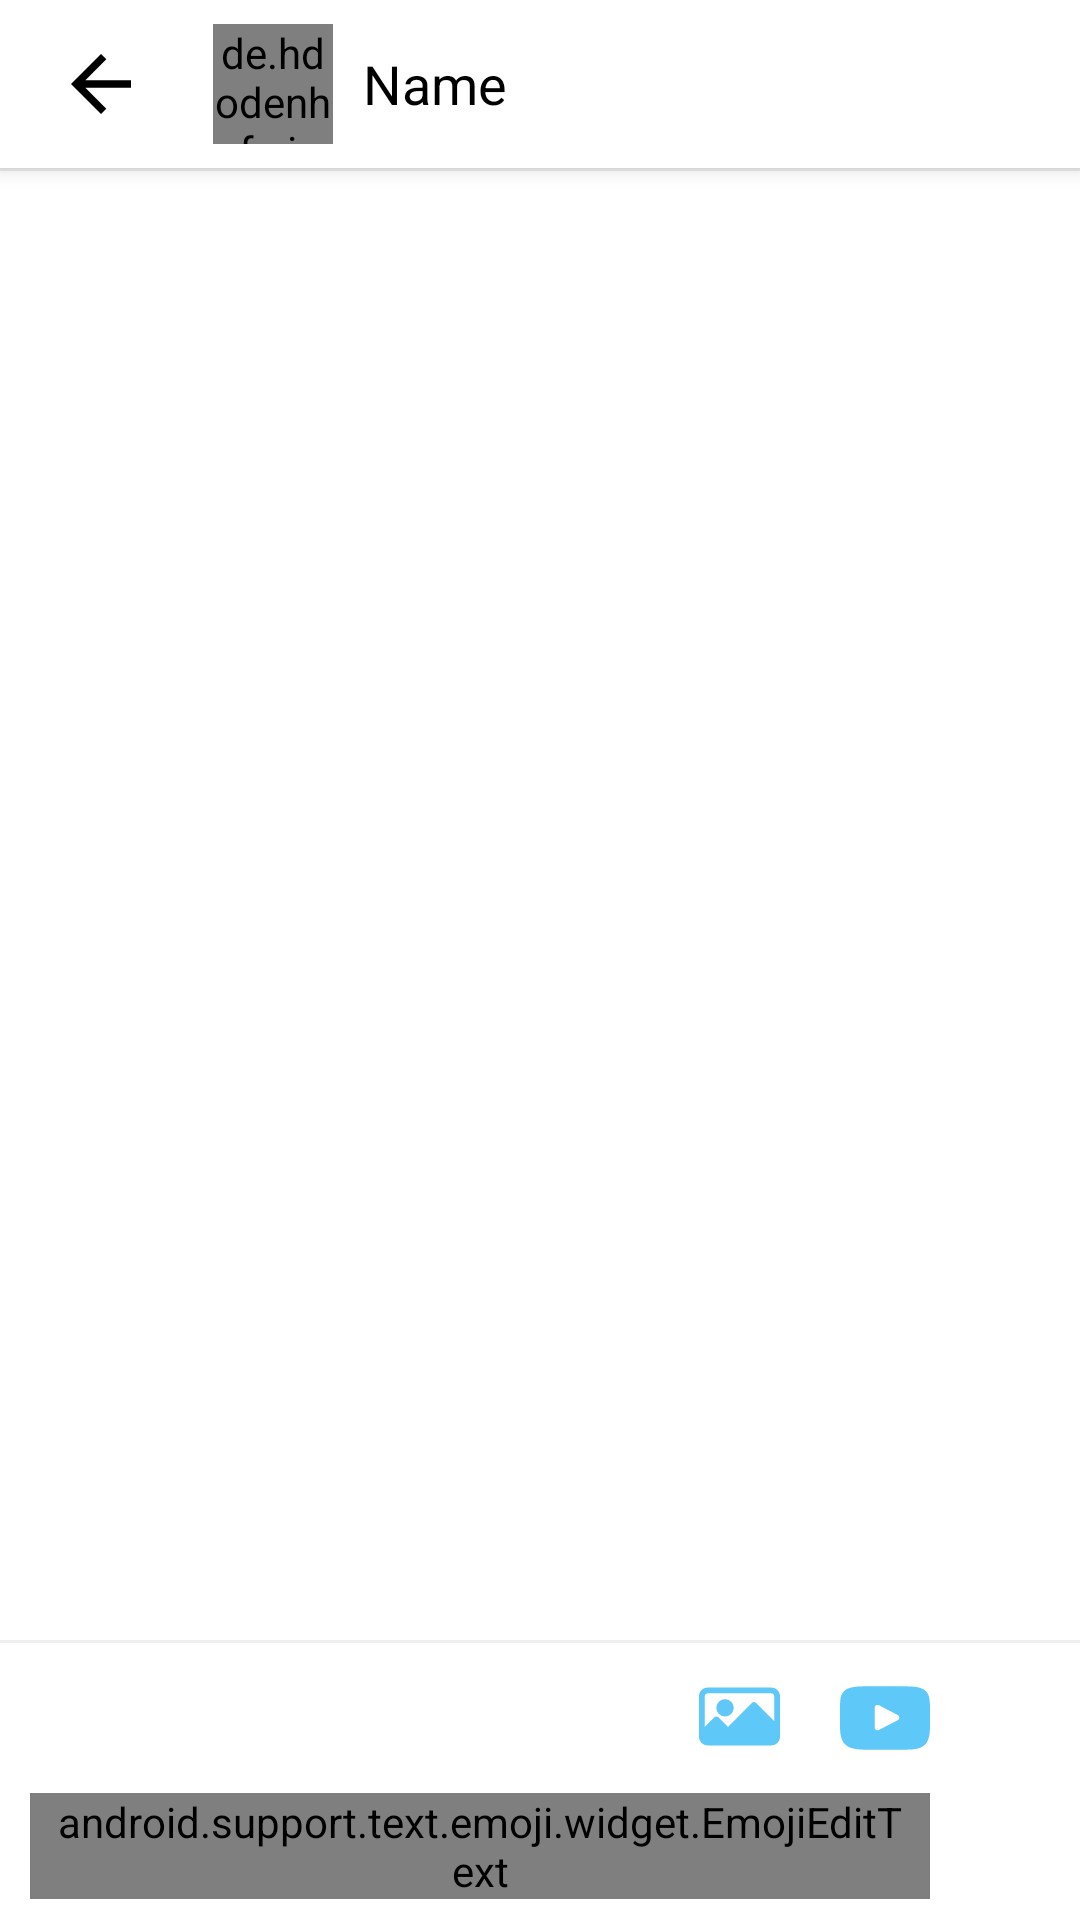

Where icons sit on this 1080*1920 app screen, as box=[x1, y1, x2, y2]:
left arrow: box=[71, 54, 131, 114]
